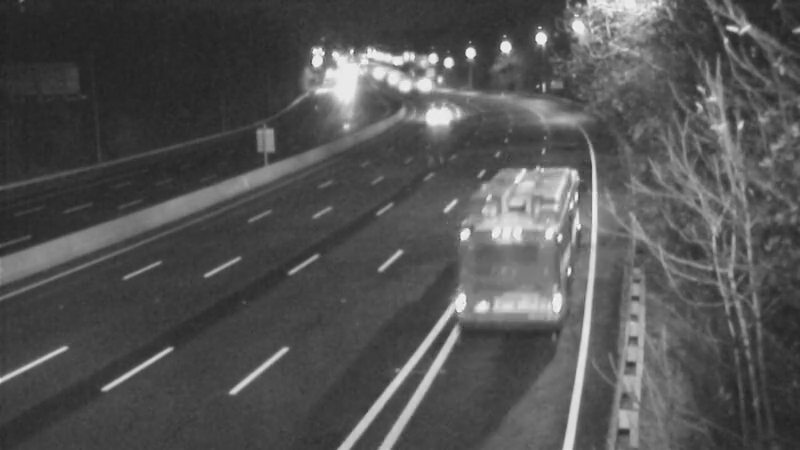vehicle: (456, 220, 536, 300), (352, 47, 402, 97), (367, 56, 417, 106), (378, 60, 428, 110), (401, 59, 451, 109), (406, 93, 456, 143), (320, 71, 370, 121)
